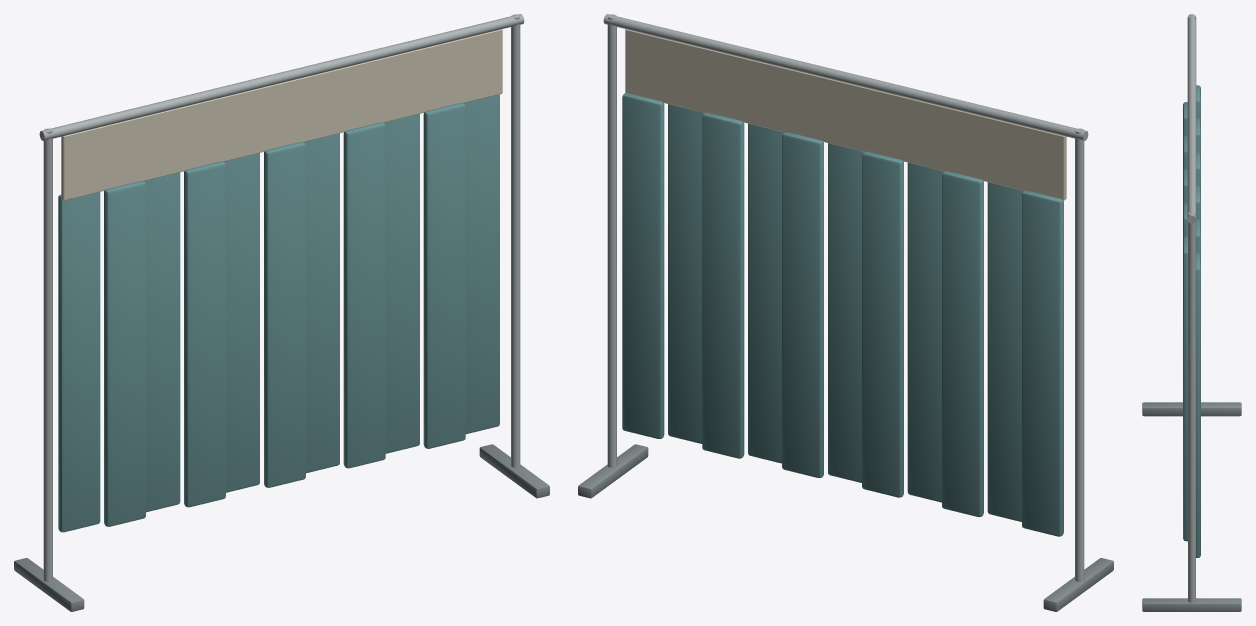
File: privacy-curtain.glb
The picture shows the model from 3 angles, left to right: view 1: azimuth 30°, elevation 25°; view 2: azimuth 150°, elevation 25°; view 3: azimuth 270°, elevation 25°; orthographic projection. The views are drawn at different scales.
Parts seen in each view (by area): view 1: privacy-curtain; view 2: privacy-curtain; view 3: privacy-curtain.
Part boxes in pixels (<box>): privacy-curtain: <box>14,14,549,611</box>; privacy-curtain: <box>578,14,1113,611</box>; privacy-curtain: <box>1142,14,1241,611</box>.
Size of the model in its own units: 2.4 by 2.2 by 0.5.
